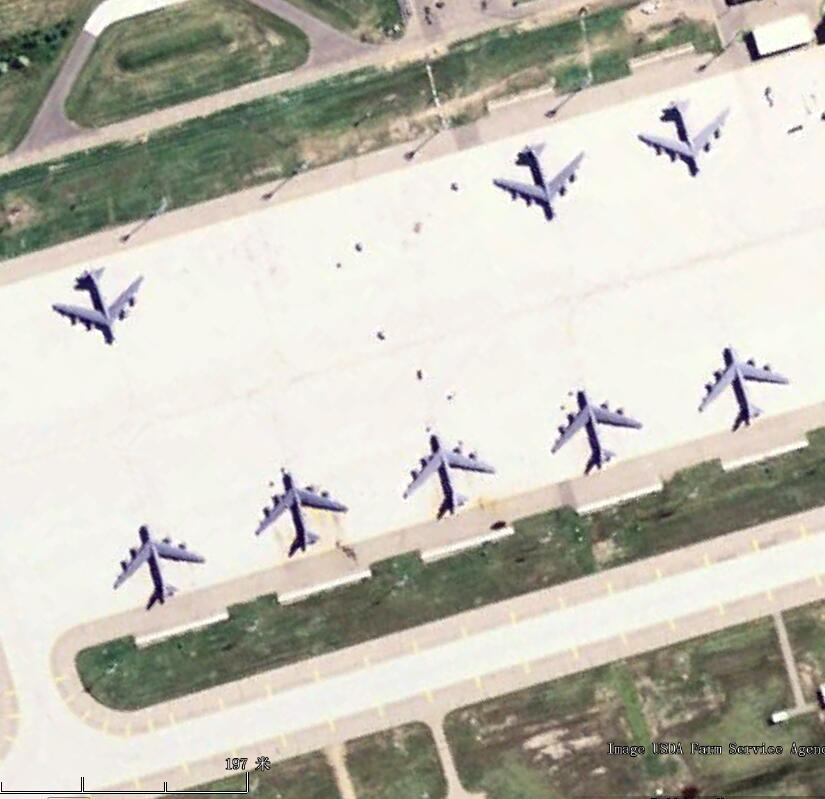A8: (633, 92, 733, 188), (104, 522, 209, 612), (248, 469, 351, 560), (399, 435, 498, 522), (547, 389, 644, 476), (49, 265, 148, 349), (491, 142, 586, 227), (698, 346, 790, 433)
